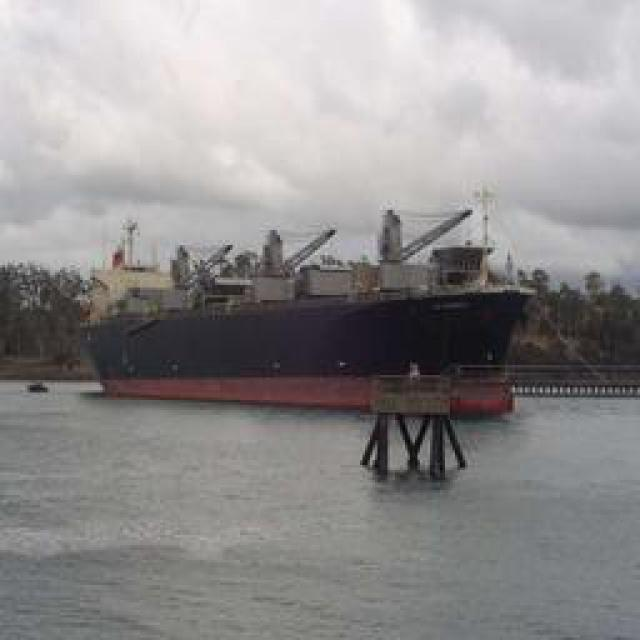Ship: (78, 207, 556, 410)
